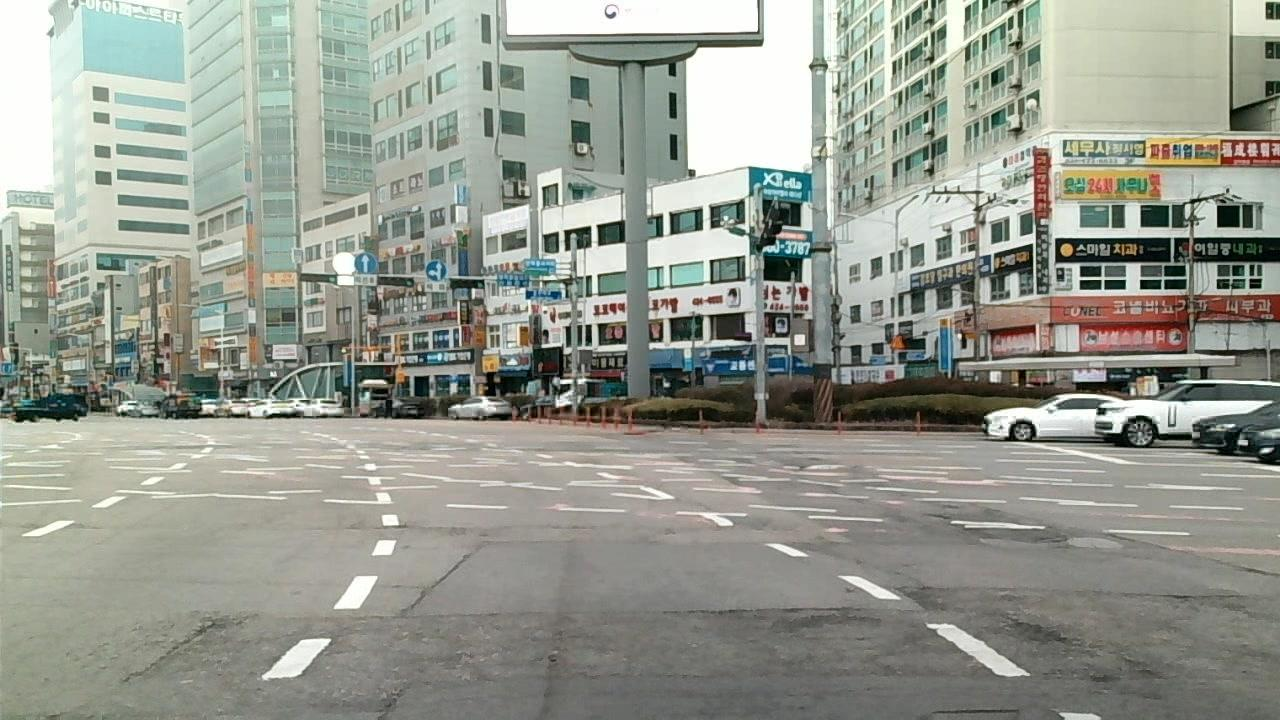erosion: (125, 575, 1280, 699), (924, 493, 1075, 551)
hcrack: (312, 516, 422, 534)
vcrack: (1106, 525, 1274, 575), (437, 536, 481, 570)
